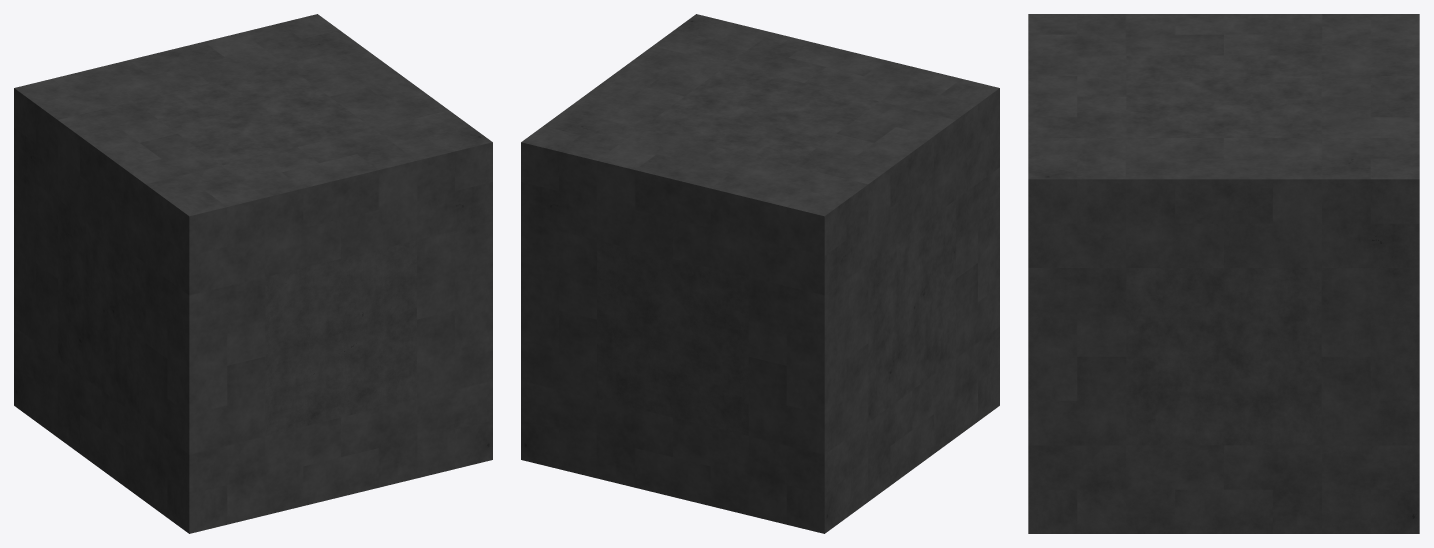
Rendered from WebsiteMenuCube.glb.
The picture shows the model from 3 angles, left to right: view 1: azimuth 30°, elevation 25°; view 2: azimuth 150°, elevation 25°; view 3: azimuth 270°, elevation 25°; orthographic projection. The views are drawn at different scales.
Visible parts, largest first — view 1: 1.Housing, 2.Front, 5.Left, 6.Top; view 2: 1.Housing, 4.Back, 5.Left, 6.Top; view 3: 1.Housing, 3.Right, 6.Top.
Boxes of the visible parts, x1,y1,x2,y2 form: 1.Housing: (14, 14, 492, 533); 2.Front: (265, 240, 416, 435); 5.Left: (58, 200, 145, 422); 6.Top: (134, 64, 372, 165); 1.Housing: (521, 14, 999, 533); 4.Back: (597, 240, 748, 435); 5.Left: (868, 200, 955, 422); 6.Top: (641, 64, 879, 165); 1.Housing: (1028, 14, 1419, 533); 3.Right: (1126, 268, 1321, 445); 6.Top: (1126, 55, 1321, 137).
Bounding box in the file's own units: 2 × 2 × 2.
Materials: 1 (1 with a texture image).
